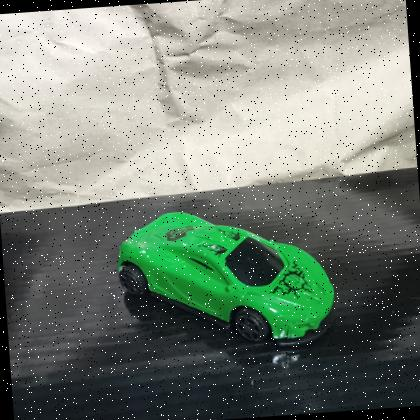Car: (109, 195, 342, 363)
